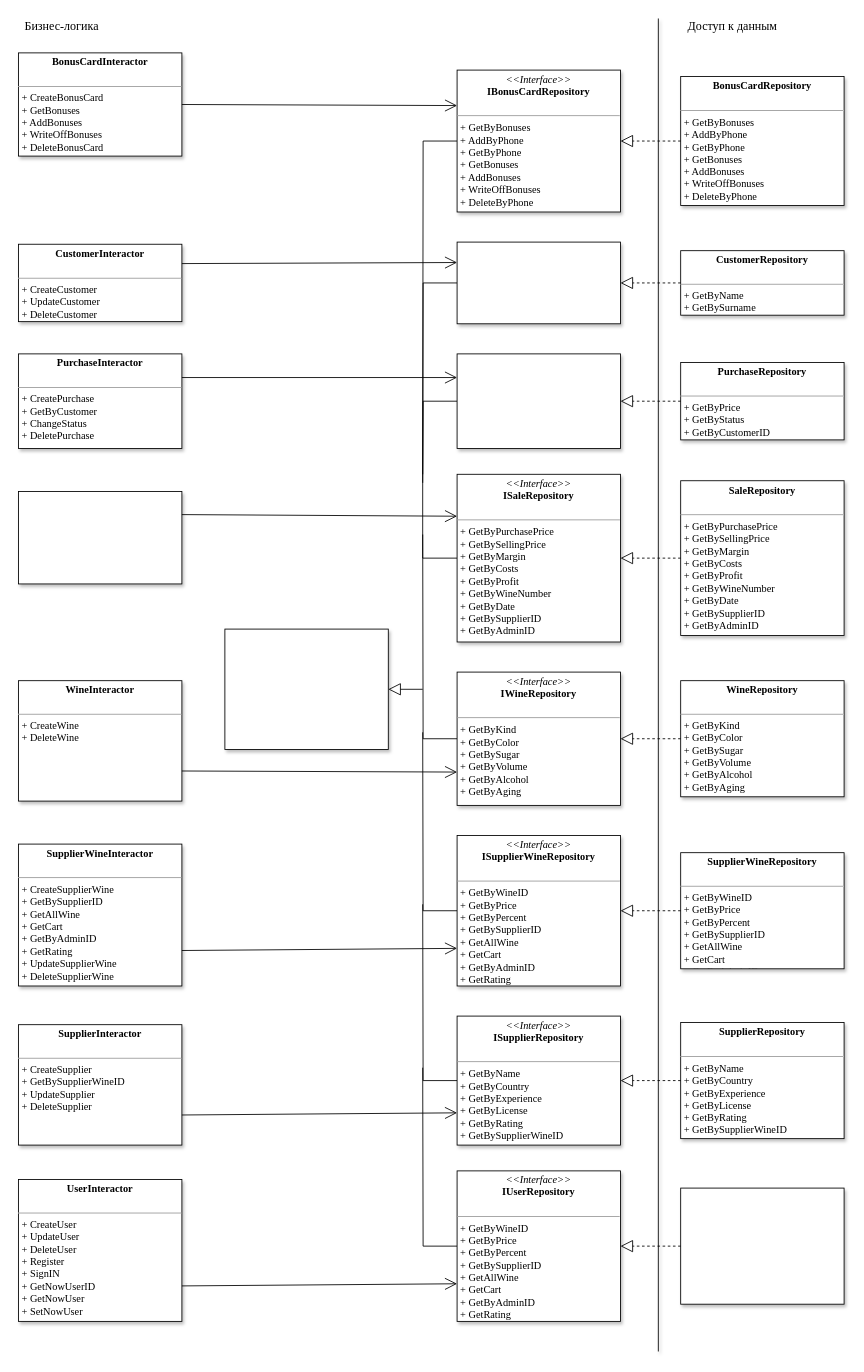
Image size: 864x1372. Some labels were removed from this diagram. The centre of each missing label's shape, as x and y in pixels:
<<Interface>> ICrudRepository + Create + GetAll + GetByID + Update + Delete: (x=307, y=690)
<<Interface>> ICustomerRepository + GetByName + GetBySurname: (x=539, y=284)
<<Interface>> IPurchaseRepository + GetByPrice + GetByStatus + GetByCustomerID: (x=539, y=402)
SaleInteractor + CreateSale + GetBySupplierID + GetByAdminID + DeleteSale: (x=100, y=538)
UserRepository + GetByLogin + GetByRole + Register + ConnectToDataStore: (x=762, y=1247)
